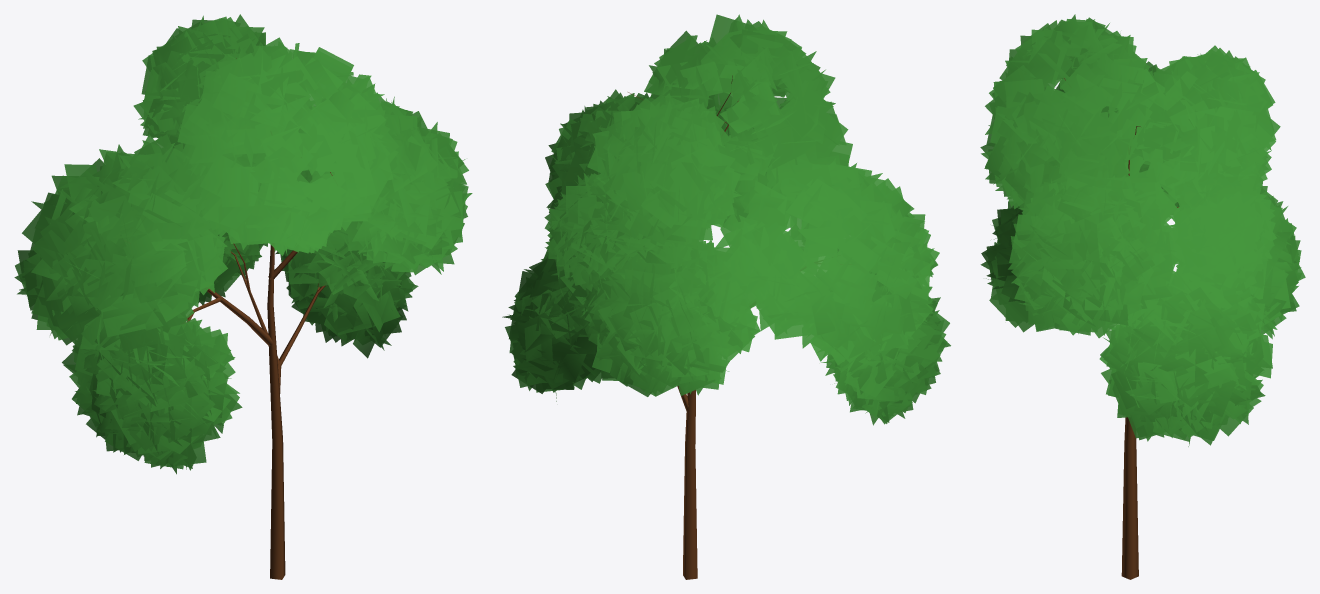
Rendered from tree_forest.fbx.
3 views of the same model, side by side, from view 1: azimuth 30°, elevation 25°; view 2: azimuth 150°, elevation 25°; view 3: azimuth 270°, elevation 25° (orthographic). The views are drawn at different scales.
Parts seen in each view (by area): view 1: Leaves, Trunk; view 2: Leaves, Trunk; view 3: Leaves, Trunk.
Part boxes in pixels (bbox=[...]): Leaves: bbox=[14, 14, 472, 474]; Trunk: bbox=[186, 58, 332, 579]; Leaves: bbox=[502, 14, 950, 425]; Trunk: bbox=[628, 75, 738, 579]; Leaves: bbox=[980, 14, 1305, 446]; Trunk: bbox=[1064, 78, 1178, 579].
Bounding box in the file's own units: 522 × 694 × 381.
